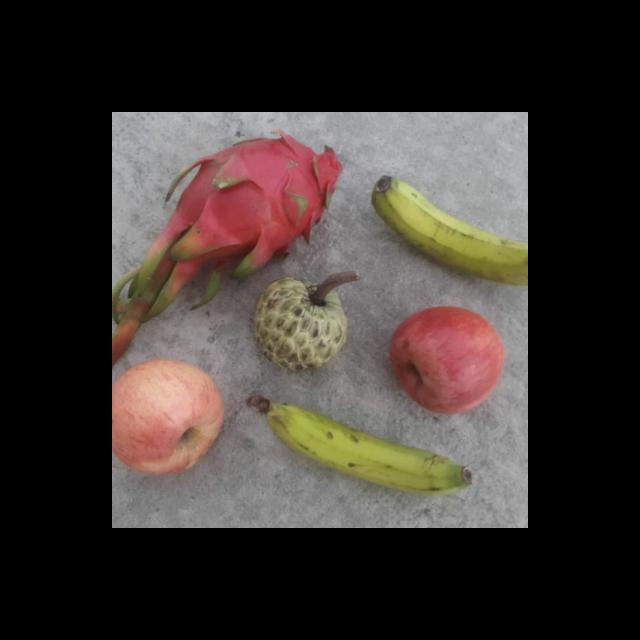Sakya fruit: (249, 276, 353, 378)
apple: (112, 355, 226, 483), (390, 304, 508, 416)
banana: (248, 392, 478, 501), (372, 174, 528, 289)
pitaya: (174, 132, 340, 280)
